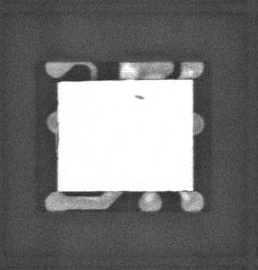DIE_INK: (132, 93, 146, 100)
